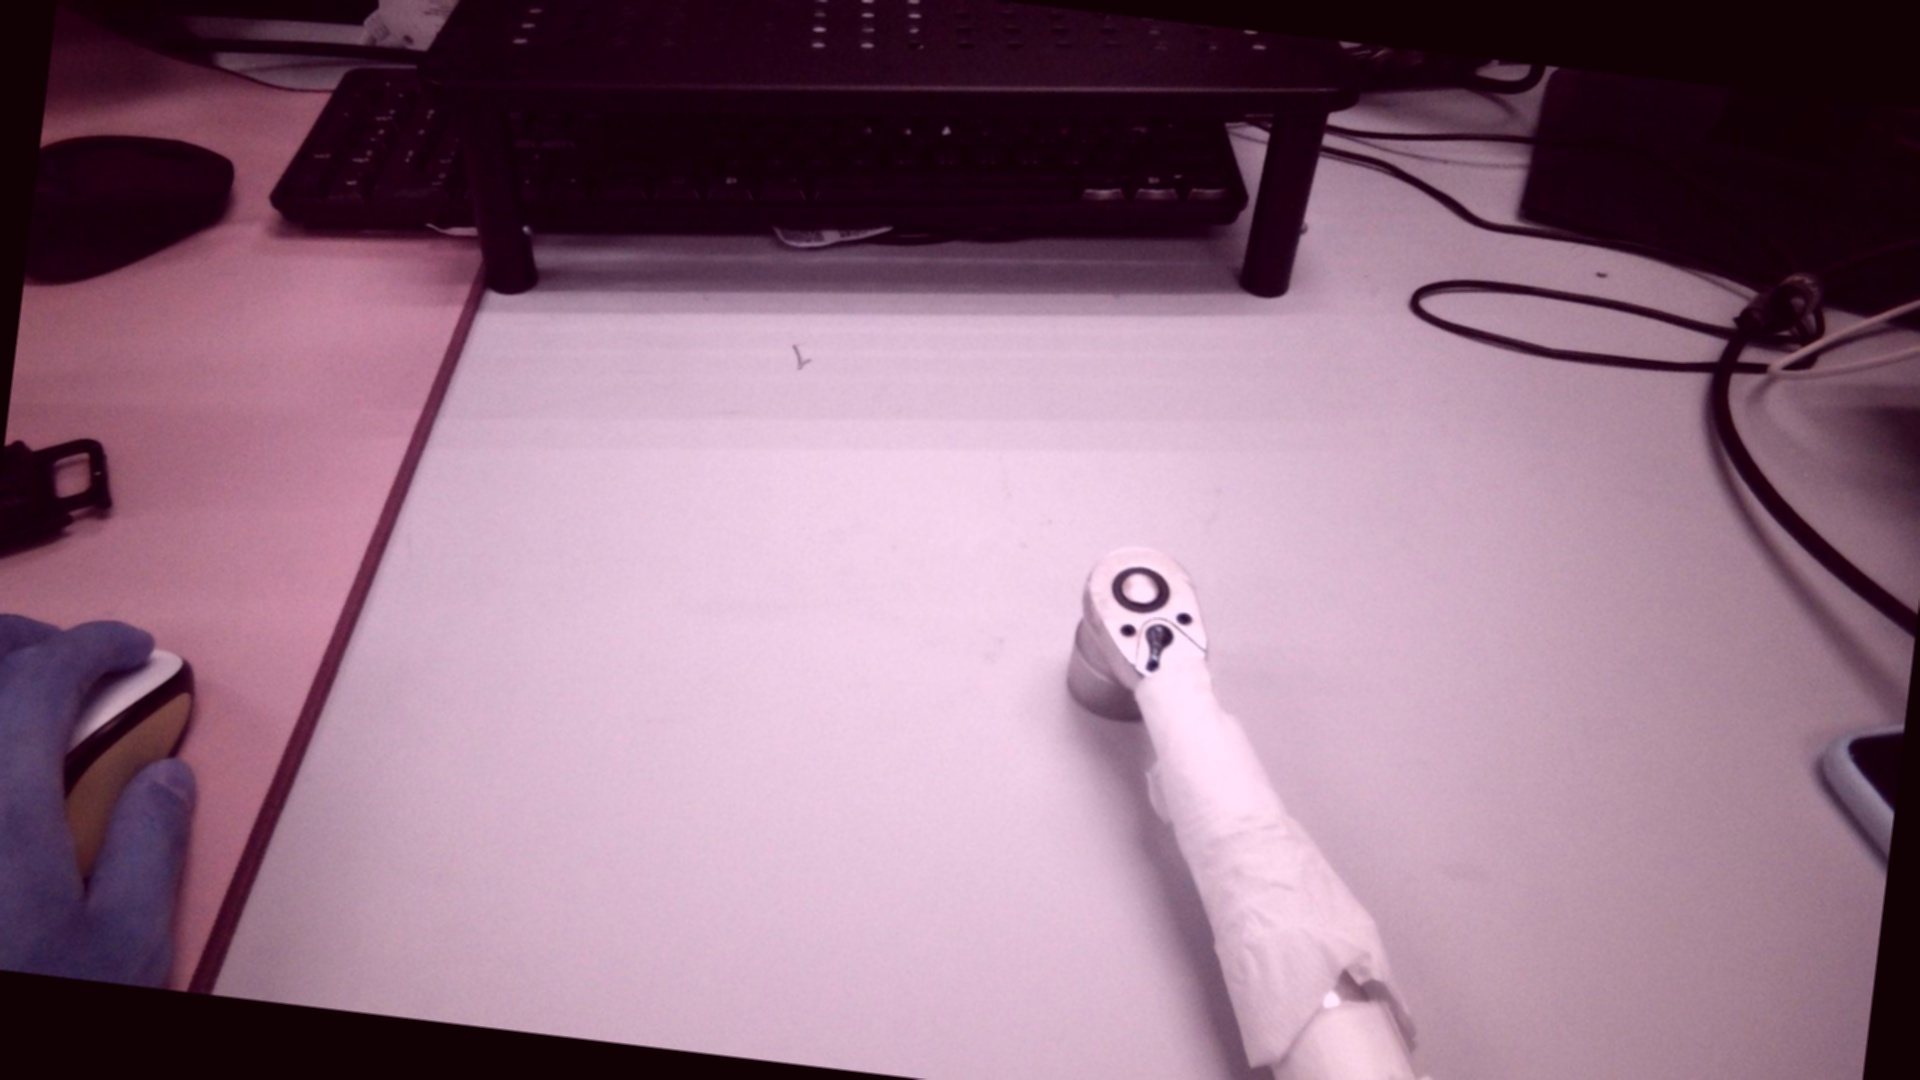wrench: (1102, 560, 1174, 618)
